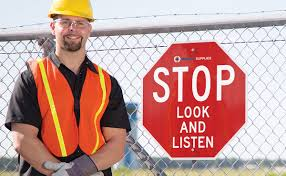stop sign: (141, 42, 246, 158)
